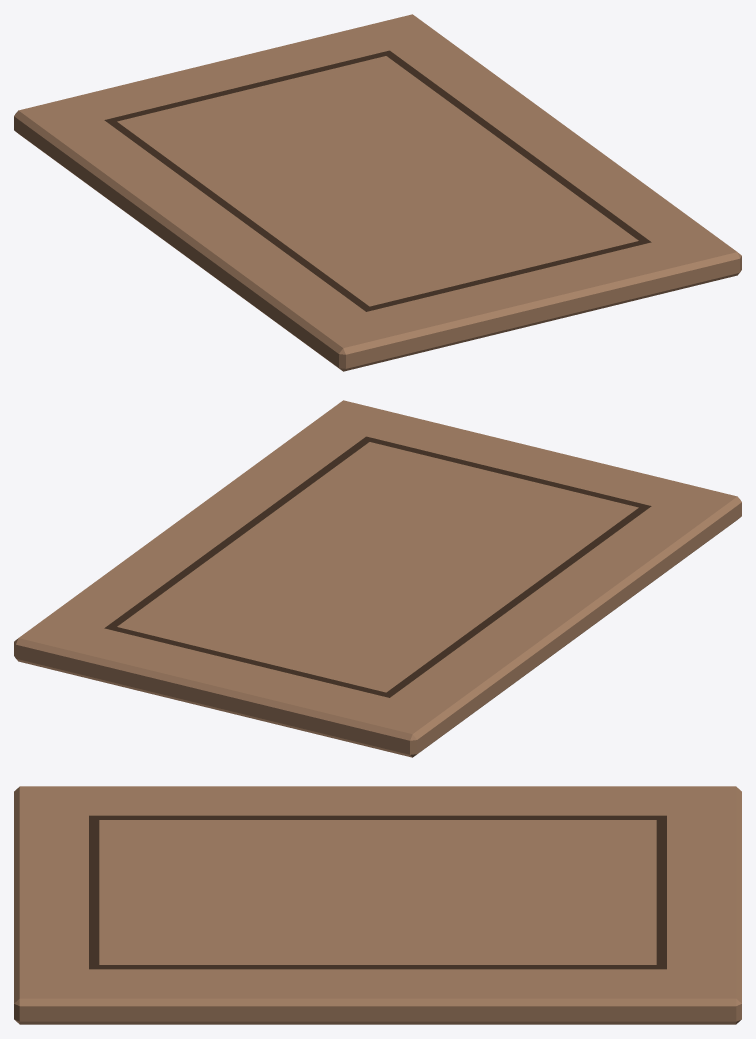
File: Door mat.glb
The picture shows the model from 3 angles, top to bottom: view 1: azimuth 30°, elevation 25°; view 2: azimuth 150°, elevation 25°; view 3: azimuth 270°, elevation 25°; orthographic projection. The views are drawn at different scales.
Parts seen in each view (by area): view 1: Doormat; view 2: Doormat; view 3: Doormat.
Boxes of the visible parts, box(x1,y1,x2,y2) form: Doormat: box(14, 14, 741, 371); Doormat: box(14, 400, 741, 757); Doormat: box(14, 786, 741, 1024).
Size of the model in its own units: 35.9 by 2 by 50.9.
Materials: 1 (1 with a texture image).
